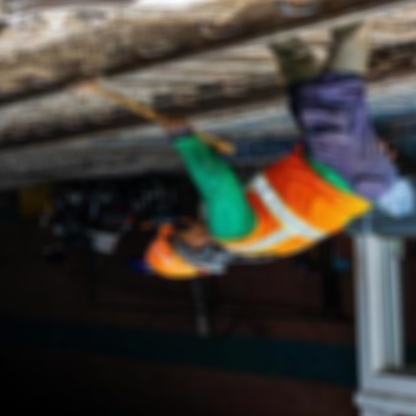vest: (213, 145, 382, 262)
